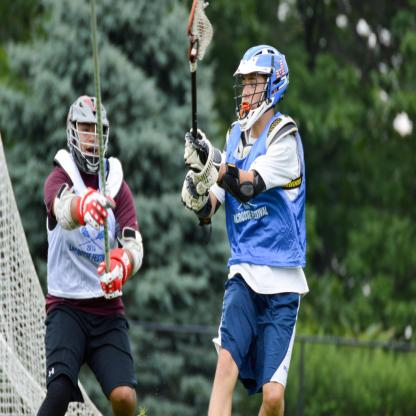Helmet: (235, 41, 290, 127), (63, 93, 110, 175)
